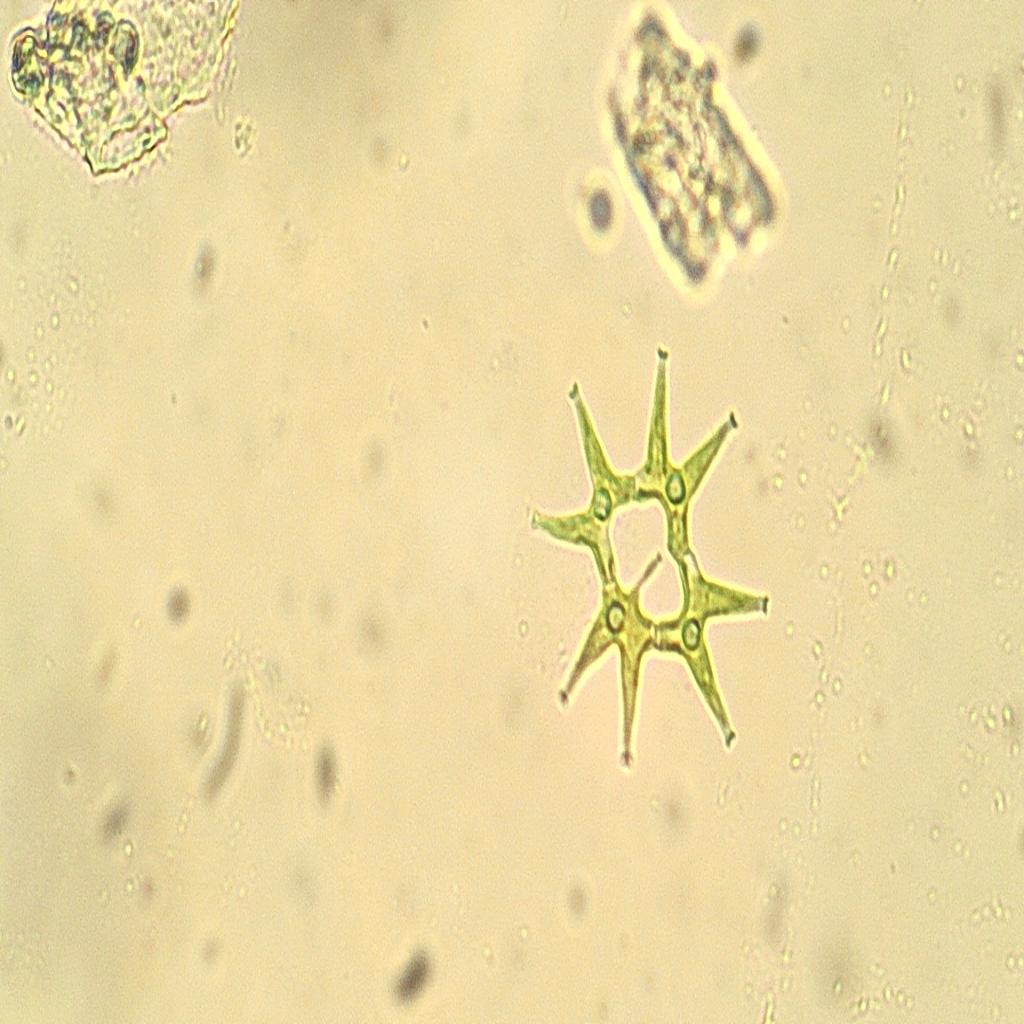Pediastrum_75FO: (504, 317, 794, 803)
